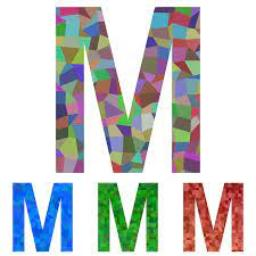m: (47, 2, 227, 180), (92, 172, 176, 256), (174, 178, 256, 256), (11, 176, 89, 256)
